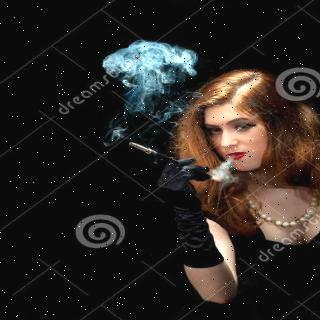smoke: (100, 38, 196, 106)
